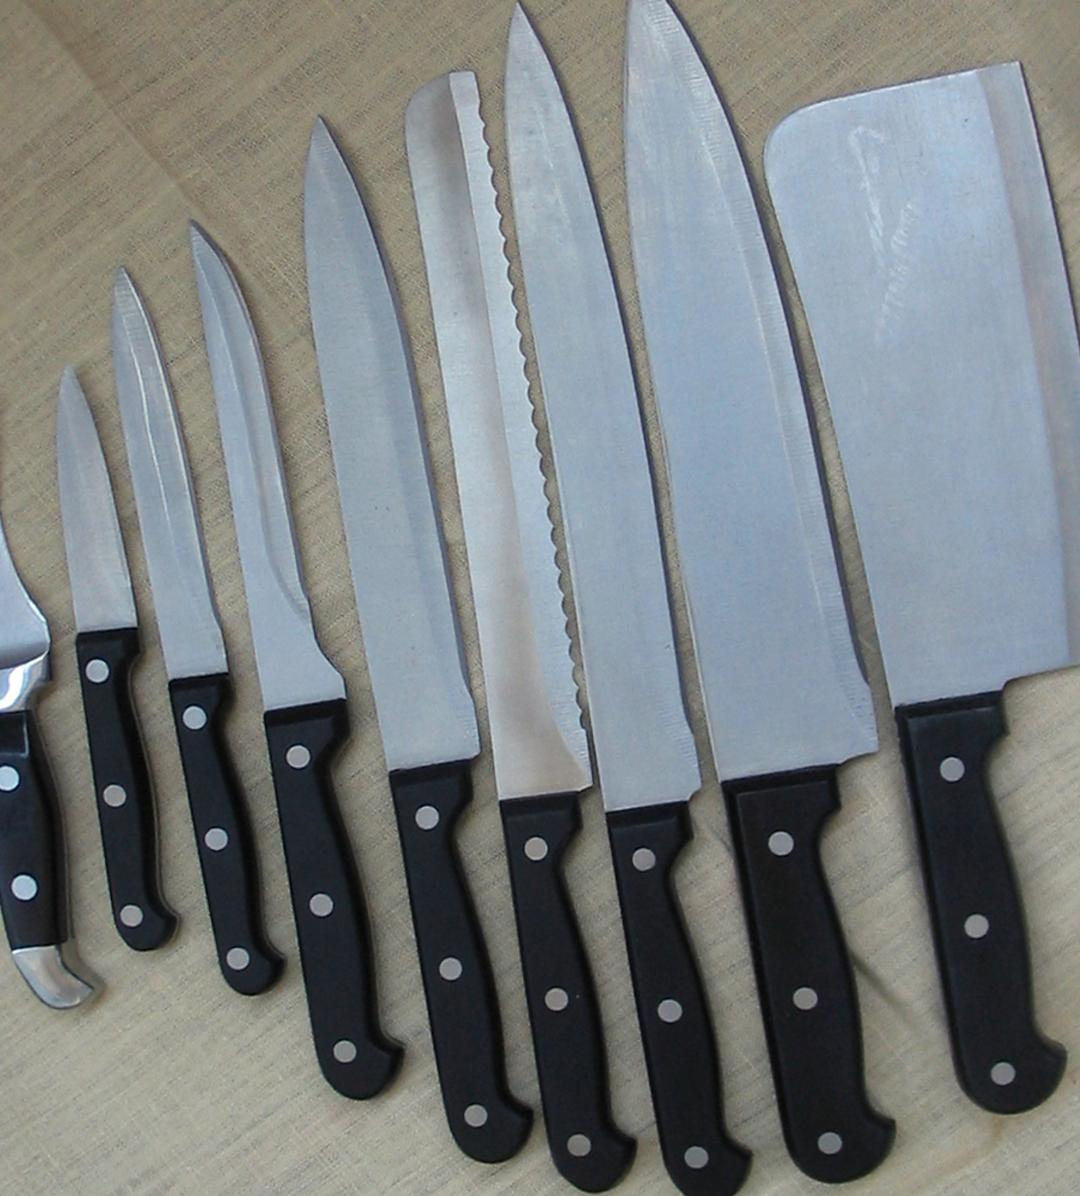knife: (619, 5, 901, 1185), (502, 3, 759, 1187), (297, 116, 535, 1169), (189, 221, 413, 1103), (110, 265, 292, 998), (52, 365, 186, 951)
